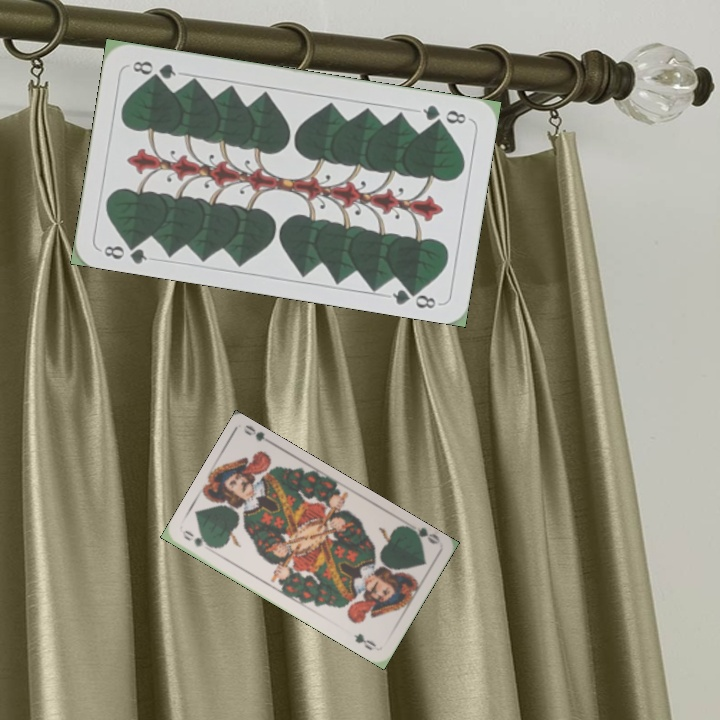G8: (99, 237, 150, 267), (418, 101, 469, 127)
GO: (403, 522, 442, 547), (179, 530, 218, 551)
